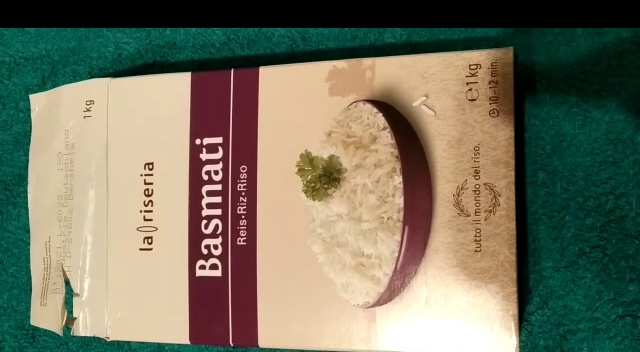basmati_rice: (20, 43, 525, 352)
